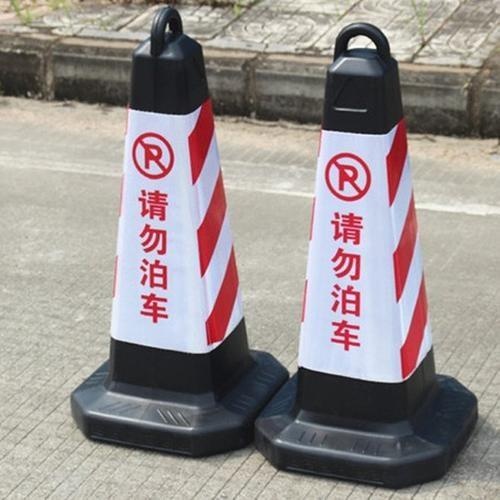cone_barrel: (263, 28, 459, 467), (77, 7, 275, 436)
